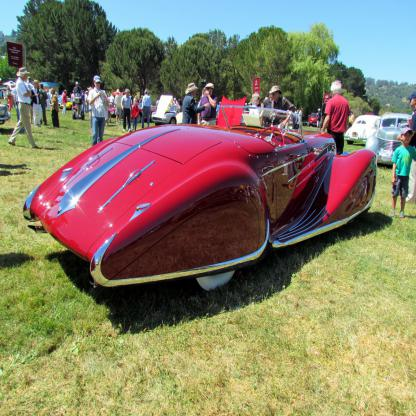Car: (0, 88, 416, 298)
